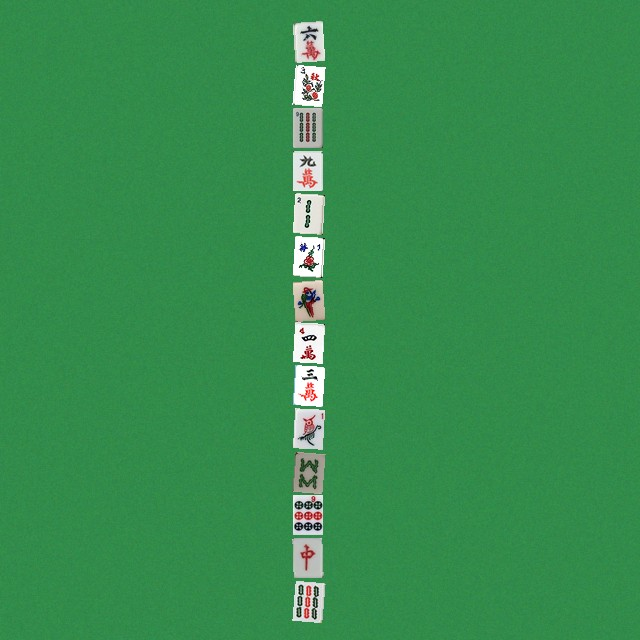tile: (292, 21, 322, 61), (292, 64, 322, 104), (292, 107, 322, 147), (292, 150, 322, 190), (292, 193, 322, 233), (292, 236, 322, 276), (292, 279, 322, 319), (292, 322, 322, 362), (292, 365, 322, 405), (292, 408, 322, 448), (292, 451, 322, 491), (292, 494, 322, 534), (292, 537, 322, 577), (292, 580, 322, 620)
